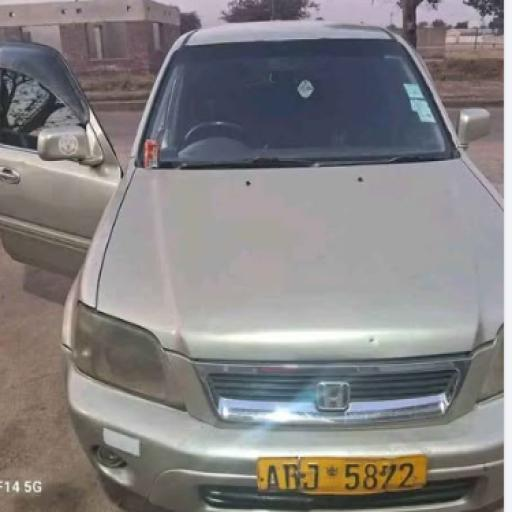number-plates: (256, 455, 422, 496)
